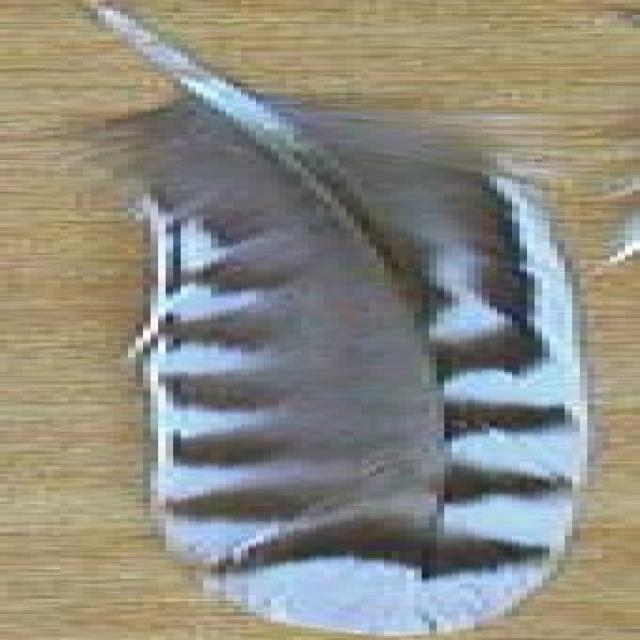feather: (53, 0, 595, 636)
